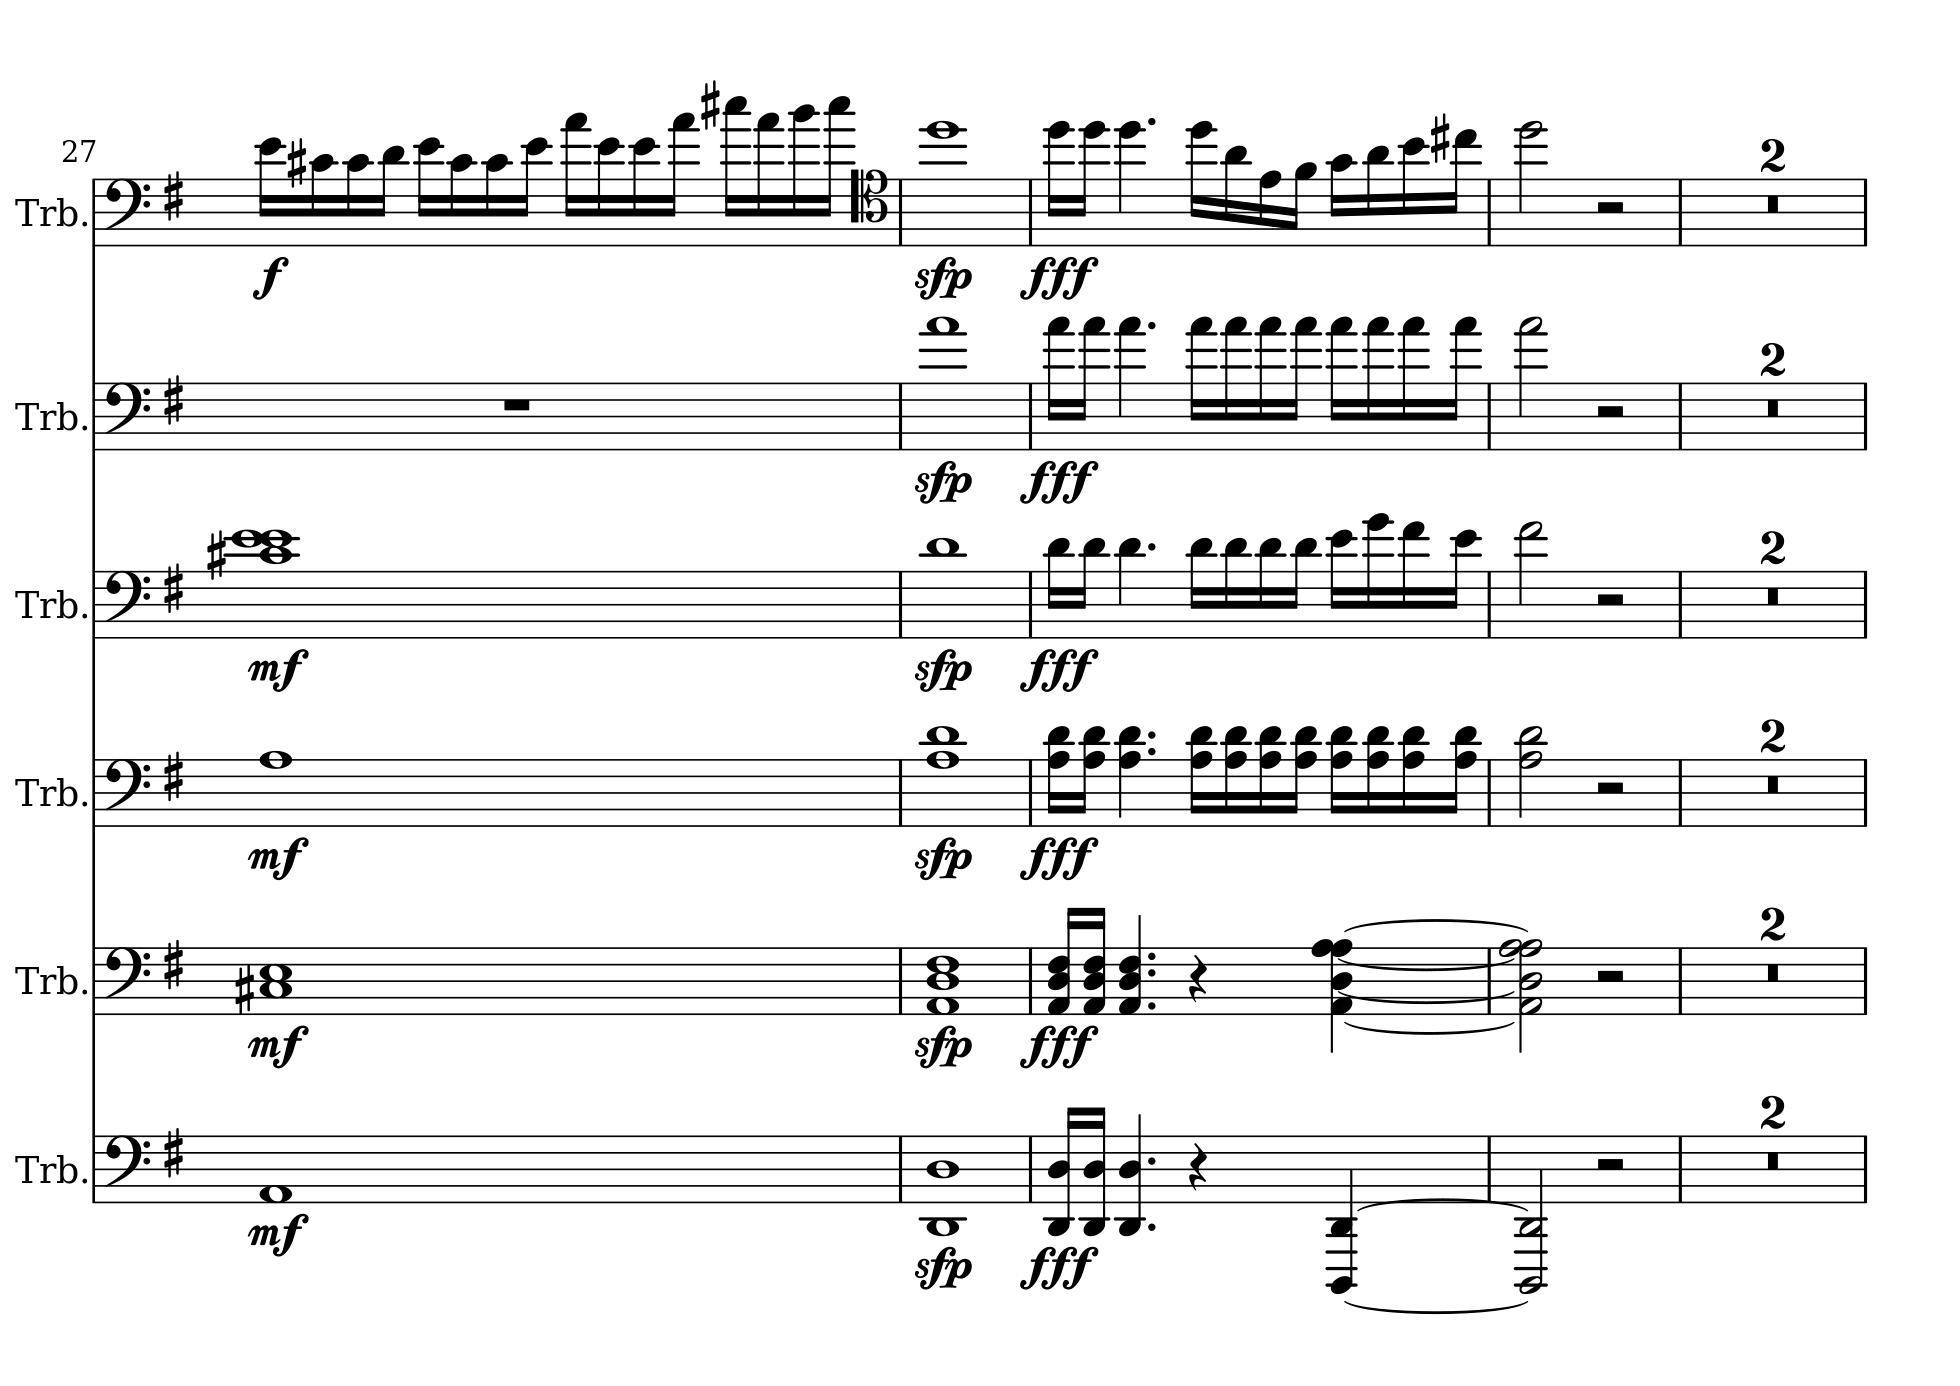16_-3_4: (1044, 1104, 1080, 1236), (1080, 1104, 1111, 1236)
16_10: (1326, 151, 1356, 247), (448, 151, 475, 247), (343, 151, 370, 246), (483, 153, 510, 247), (309, 151, 334, 247)
16_11: (373, 142, 406, 247), (1074, 534, 1107, 639), (1287, 535, 1320, 639), (1363, 142, 1392, 247), (1044, 535, 1072, 639), (1186, 535, 1215, 639), (1221, 535, 1249, 639), (1255, 535, 1284, 639), (1221, 142, 1248, 246)
16_12: (514, 135, 550, 247), (1443, 526, 1479, 639), (628, 136, 658, 247), (255, 133, 283, 247), (1399, 133, 1428, 247), (594, 136, 622, 247), (1327, 529, 1356, 640), (415, 135, 442, 247)
16_13: (1444, 124, 1479, 247), (1398, 517, 1428, 639)
16_14: (1074, 118, 1107, 247), (1186, 118, 1216, 247), (1362, 513, 1392, 640), (1044, 118, 1072, 247)
16_15: (661, 112, 697, 247), (1285, 315, 1320, 451), (1444, 315, 1479, 450), (1075, 316, 1107, 450), (559, 111, 589, 247), (1362, 315, 1392, 450), (1398, 316, 1428, 450), (1326, 316, 1356, 448), (753, 111, 781, 246), (1186, 316, 1215, 450), (1221, 316, 1249, 450), (1255, 316, 1284, 450), (1044, 315, 1071, 450)
16_16: (787, 103, 817, 247)
16_17: (819, 96, 850, 246), (720, 93, 748, 247)
16_8: (1257, 169, 1282, 247)
16_8_11: (1185, 723, 1218, 828), (1290, 724, 1323, 829), (1362, 723, 1395, 828), (1044, 724, 1075, 829), (1077, 723, 1108, 828), (1219, 723, 1251, 828), (1254, 723, 1285, 828), (1327, 724, 1359, 829), (1398, 721, 1429, 826), (1450, 724, 1482, 829)
16_9: (1288, 160, 1318, 247)
16_th: (1047, 909, 1083, 1018), (1081, 907, 1110, 1015)
1_-3_4: (916, 1132, 969, 1236)
1_1: (258, 1132, 292, 1207)
1_11: (921, 535, 961, 640)
1_14: (919, 118, 964, 247)
1_15: (916, 315, 970, 451)
1_8: (258, 747, 292, 826)
1_8_11: (919, 723, 967, 826)
1_th: (924, 943, 960, 1017)
2: (1758, 339, 1791, 376), (1756, 136, 1788, 174), (1758, 1093, 1789, 1129), (1758, 718, 1788, 754), (1758, 904, 1788, 940), (1758, 529, 1786, 567), (58, 136, 79, 163)
2_13: (1515, 520, 1545, 640)
2_14: (1515, 121, 1548, 247)
2_15: (1515, 315, 1548, 451)
2_4th: (1501, 934, 1546, 1051)
2_8_11: (1513, 724, 1548, 829)
4_-3_4: (1113, 1113, 1147, 1237)
4_11: (1116, 535, 1144, 639)
4_14: (1114, 120, 1144, 247)
4_15: (1113, 316, 1143, 451)
4_4th: (1311, 934, 1356, 1051)
4_8_11: (1113, 724, 1147, 828)
4_th: (1117, 910, 1144, 1014)
7: (79, 136, 97, 163)
Fclef: (100, 175, 151, 247), (100, 379, 151, 451), (102, 1132, 153, 1204), (102, 567, 151, 640), (102, 756, 151, 829), (102, 943, 151, 1017)
Rests1: (498, 393, 535, 415)
Rests2: (1591, 400, 1630, 423), (1590, 1153, 1629, 1176), (1593, 196, 1630, 219), (1591, 964, 1629, 987), (1591, 589, 1630, 610), (1591, 777, 1629, 796)
Rests4: (1186, 952, 1209, 1003), (1186, 1141, 1209, 1192)
Sharp: (159, 370, 187, 426), (160, 168, 187, 223), (160, 559, 187, 613), (202, 526, 228, 583), (160, 1123, 186, 1180), (160, 748, 186, 802), (160, 937, 186, 991), (1428, 111, 1450, 165), (285, 136, 307, 189), (231, 961, 253, 1014), (699, 76, 720, 130)
Single_barline: (1854, 177, 1875, 246), (1854, 381, 1875, 450), (1854, 757, 1875, 826), (1854, 946, 1875, 1015), (1854, 570, 1875, 637), (1854, 1134, 1875, 1201), (1671, 757, 1690, 826), (1671, 177, 1690, 244), (889, 570, 909, 637), (1671, 570, 1690, 637), (1671, 946, 1690, 1014), (1671, 382, 1690, 448), (891, 381, 909, 450), (892, 1134, 910, 1203), (891, 757, 909, 825), (892, 946, 910, 1014), (1671, 1134, 1689, 1201), (1023, 568, 1039, 637), (1023, 178, 1039, 246), (1023, 382, 1039, 448), (1023, 759, 1039, 825), (1482, 946, 1498, 1012), (1023, 948, 1039, 1014), (1023, 1135, 1039, 1201), (892, 178, 907, 244), (1482, 178, 1497, 244), (1482, 382, 1497, 448), (1482, 759, 1497, 825), (1482, 571, 1497, 636), (1482, 1135, 1497, 1198), (88, 757, 102, 826), (88, 946, 102, 1014), (88, 571, 102, 637), (88, 178, 100, 244), (88, 382, 100, 448), (88, 1135, 100, 1201)
Slur: (1354, 1194, 1524, 1212), (1344, 1020, 1516, 1036), (1344, 916, 1530, 931), (1335, 958, 1516, 972), (1338, 991, 1516, 1003)
Tensor_Cclef: (849, 166, 886, 247)
Trb: (10, 393, 78, 435), (10, 582, 76, 622), (13, 769, 76, 811), (13, 957, 76, 999), (10, 193, 78, 232), (13, 1147, 76, 1188)
dot: (1146, 948, 1159, 963), (1146, 964, 1159, 979), (1146, 997, 1159, 1012), (1146, 1219, 1159, 1233), (1146, 538, 1158, 553), (1146, 1152, 1158, 1167), (1146, 115, 1158, 129), (1146, 727, 1158, 741), (1146, 319, 1158, 331), (1146, 744, 1158, 756)
f: (247, 253, 289, 301)
fff: (1018, 646, 1101, 697), (1018, 1021, 1101, 1072), (1018, 456, 1099, 507), (1018, 253, 1098, 303), (1018, 835, 1099, 883), (1020, 1243, 1098, 1291)
mf: (247, 1023, 310, 1069), (247, 1212, 310, 1258), (246, 646, 310, 691), (246, 835, 310, 880)
sfp: (913, 1246, 976, 1302), (912, 648, 976, 699), (912, 835, 976, 886), (913, 460, 976, 511), (913, 1024, 975, 1074), (913, 256, 973, 304)
